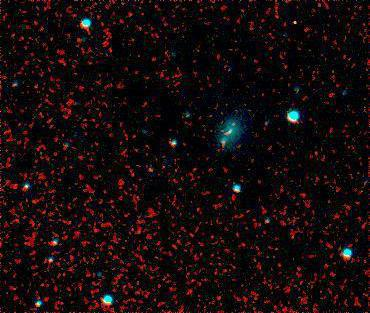star: (222, 111, 252, 141)
